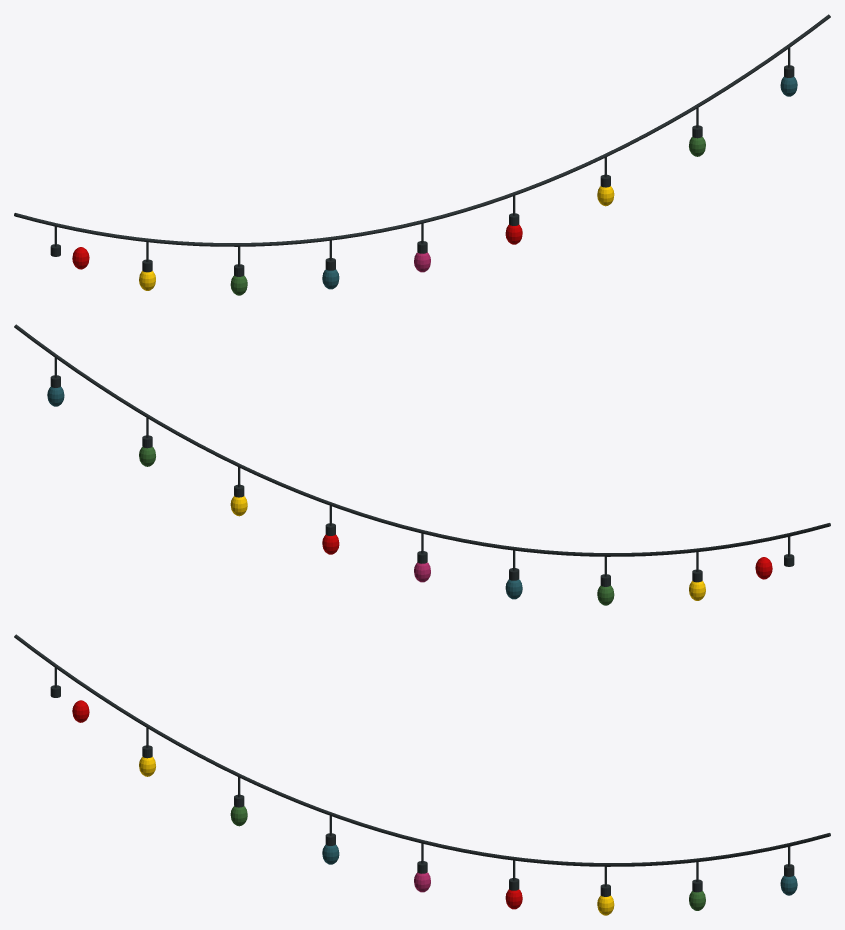
File: source-edit.glb
3 views of the same model, one above another, from view 1: azimuth 30°, elevation 25°; view 2: azimuth 150°, elevation 25°; view 3: azimuth 330°, elevation 25° (orthographic).
Size of the model in its own units: 4.01 by 0.7422 by 0.074.
